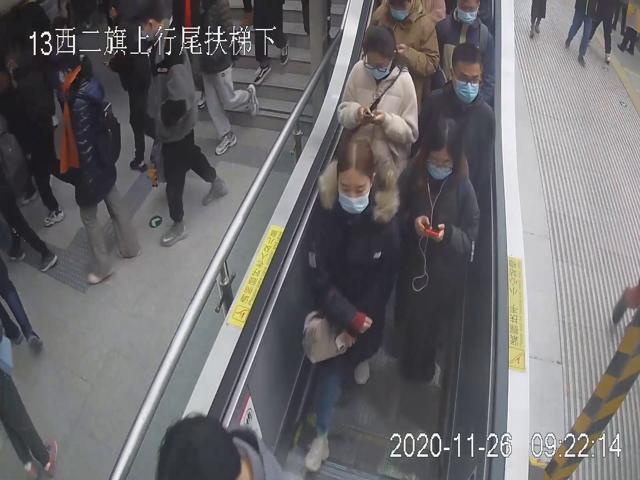person: (298, 135, 396, 471), (392, 112, 479, 387), (56, 34, 140, 284), (335, 25, 419, 180), (419, 42, 495, 189)
